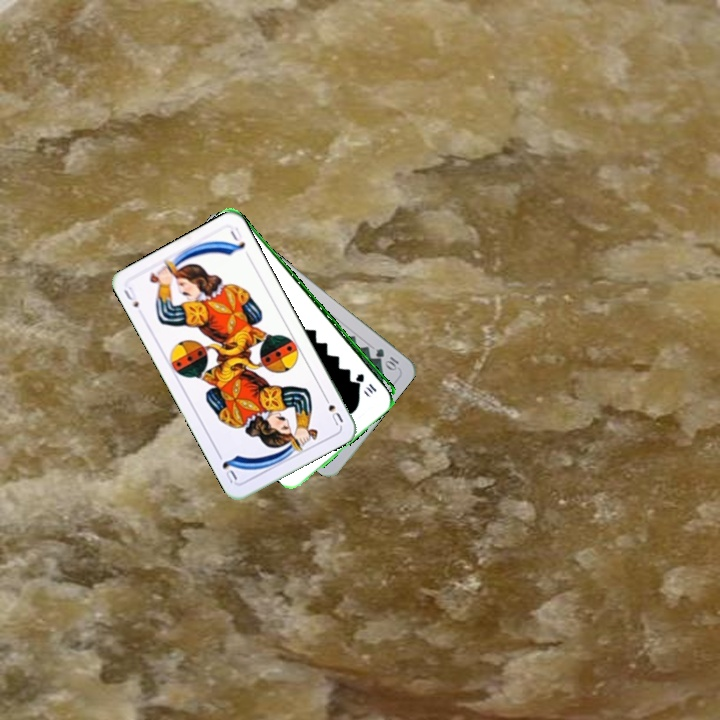G10: (371, 344, 401, 373), (353, 369, 379, 394)
SU: (319, 391, 346, 429), (120, 283, 142, 310)
